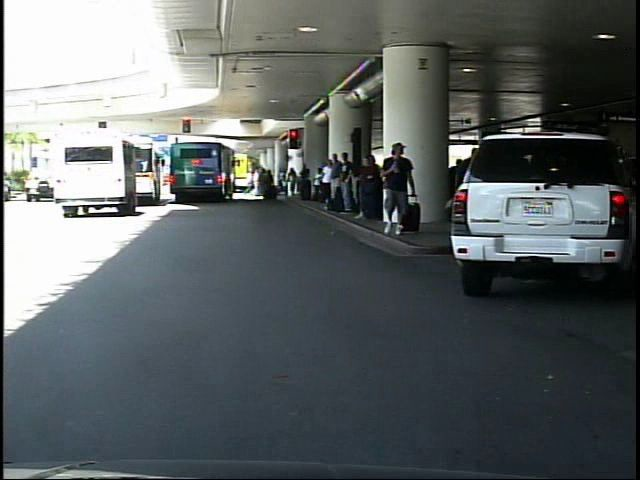person: (380, 140, 416, 239)
